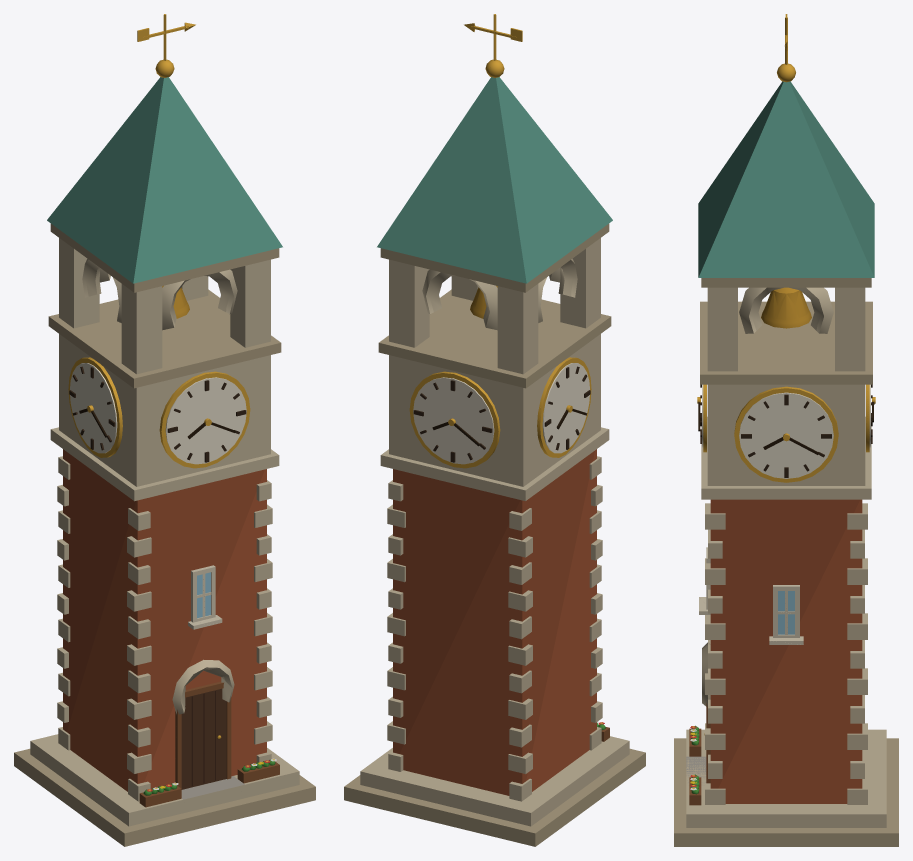
Rendered from clock_tower.glb.
3 renders of one model, left to right at view 1: azimuth 30°, elevation 25°; view 2: azimuth 150°, elevation 25°; view 3: azimuth 270°, elevation 25°, orthographic.
Visible parts, largest first — view 1: decor-clock_tower-far, decor-clock_tower; view 2: decor-clock_tower-far, decor-clock_tower; view 3: decor-clock_tower-far, decor-clock_tower.
Boxes of the visible parts, left/top/right/bottom form: decor-clock_tower-far: left=14, top=29, right=315, bottom=846; decor-clock_tower: left=30, top=14, right=299, bottom=826; decor-clock_tower-far: left=344, top=31, right=645, bottom=846; decor-clock_tower: left=360, top=14, right=629, bottom=826; decor-clock_tower-far: left=674, top=141, right=898, bottom=846; decor-clock_tower: left=686, top=14, right=886, bottom=827.
Size of the model in its own units: 3.7 by 14.2 by 3.7.
